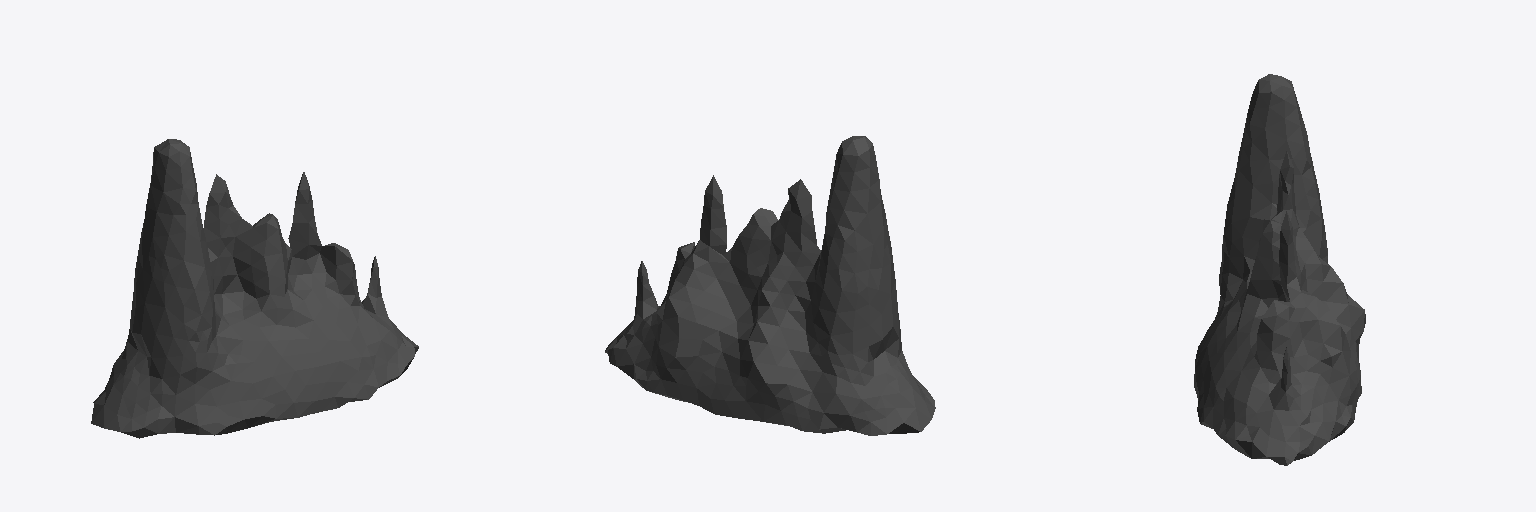
File: CaveRockPack1_Low5.obj
3 renders of one model, left to right at view 1: azimuth 30°, elevation 25°; view 2: azimuth 150°, elevation 25°; view 3: azimuth 270°, elevation 25°, orthographic.
Parts seen in each view (by area): view 1: CaveRockPack1_Low5; view 2: CaveRockPack1_Low5; view 3: CaveRockPack1_Low5.
Boxes of the visible parts, x1,y1,x2,y2 form: CaveRockPack1_Low5: [91, 139, 418, 438]; CaveRockPack1_Low5: [605, 136, 935, 435]; CaveRockPack1_Low5: [1194, 74, 1365, 465].
Size of the model in its own units: 21.85 by 18.06 by 10.25.